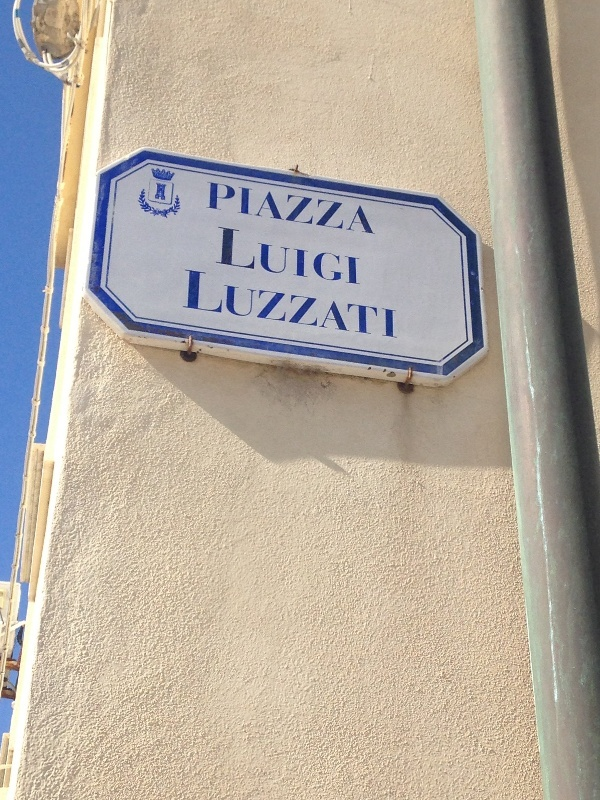text: (193, 266, 208, 341), (209, 266, 224, 341), (225, 266, 240, 341), (241, 266, 256, 341), (257, 266, 272, 341), (273, 266, 288, 341), (289, 266, 304, 341), (305, 266, 320, 341), (321, 266, 336, 341), (337, 266, 352, 341), (353, 266, 368, 341), (369, 266, 384, 341), (385, 266, 399, 341), (225, 224, 240, 288), (241, 224, 256, 288), (257, 224, 272, 288), (273, 224, 288, 288), (289, 224, 304, 288), (305, 224, 320, 288), (321, 224, 336, 288), (337, 224, 352, 288), (209, 180, 224, 237), (225, 180, 240, 237), (241, 180, 256, 237), (257, 180, 272, 237), (273, 180, 288, 237), (289, 180, 304, 237), (305, 180, 320, 237), (321, 180, 336, 237), (337, 180, 352, 237), (353, 180, 368, 237), (184, 266, 192, 341), (353, 224, 361, 288), (369, 180, 376, 237), (218, 224, 224, 288), (206, 180, 208, 237)
